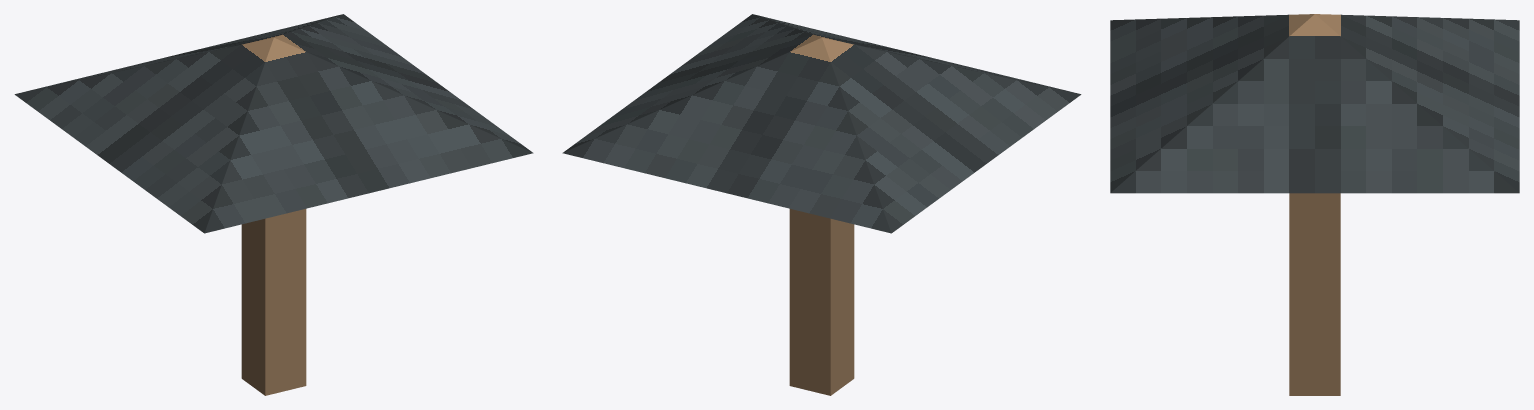
File: gray_umbrella_3d.obj
3 views of the same model, side by side, from view 1: azimuth 30°, elevation 25°; view 2: azimuth 150°, elevation 25°; view 3: azimuth 270°, elevation 25° (orthographic). The views are drawn at different scales.
Visible parts, largest first — view 1: Cube; view 2: Cube; view 3: Cube.
Part boxes in pixels (x1,y1,x2,y2): Cube: (14,14,533,395); Cube: (562,14,1081,395); Cube: (1110,14,1519,395).
Bounding box in the file's own units: 1 × 1 × 1.
